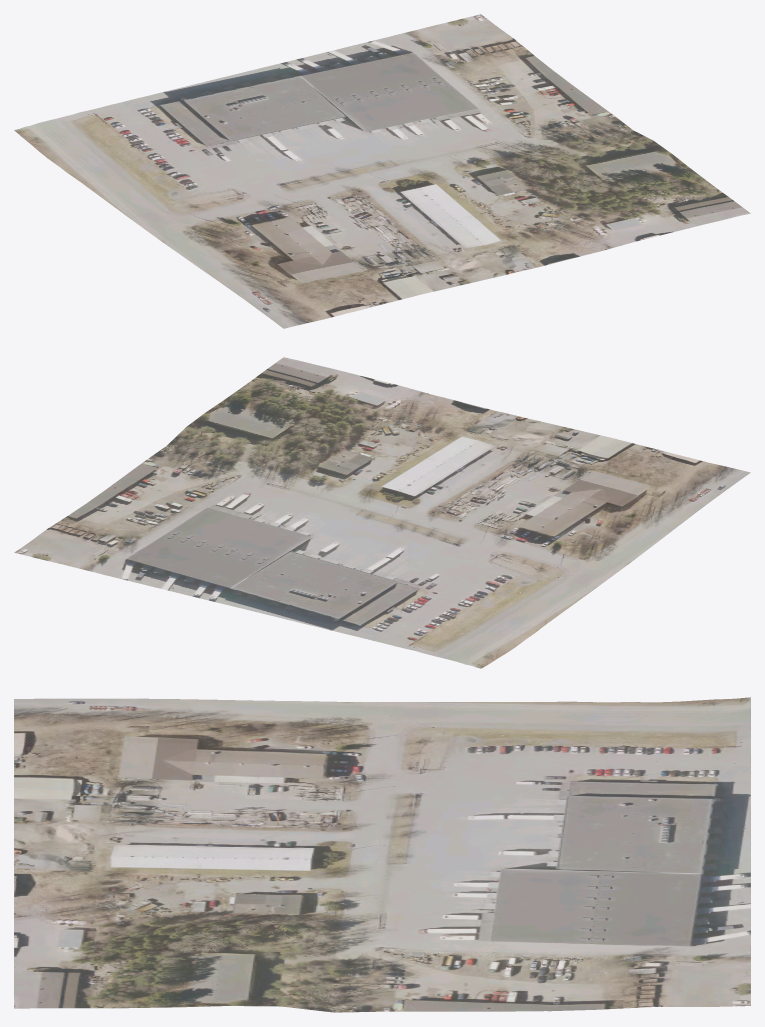
File: CM_Terrain_24493735_6815493.fbx
The picture shows the model from 3 angles, top to bottom: view 1: azimuth 30°, elevation 25°; view 2: azimuth 150°, elevation 25°; view 3: azimuth 270°, elevation 25°; orthographic projection. The views are drawn at different scales.
Visible parts, largest first — view 1: CM_Terrain_24493735_6815493_LOD0; view 2: CM_Terrain_24493735_6815493_LOD0; view 3: CM_Terrain_24493735_6815493_LOD0.
Boxes of the visible parts, x1,y1,x2,y2 form: CM_Terrain_24493735_6815493_LOD0: (14, 14, 750, 328); CM_Terrain_24493735_6815493_LOD0: (14, 357, 750, 668); CM_Terrain_24493735_6815493_LOD0: (14, 697, 750, 1012).
Size of what is drawn, in the model's own units: 205 by 4.09 by 205.
